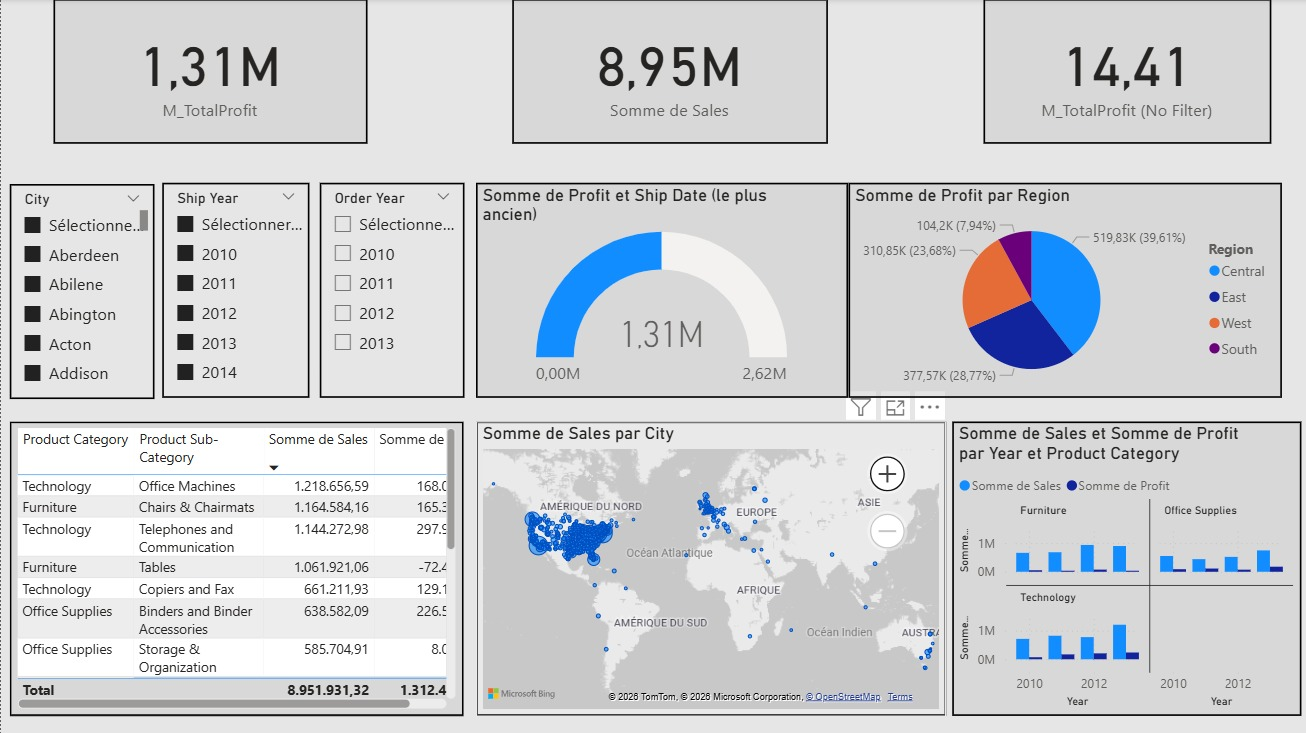

Layout of this report page (visuals, bound fields, positions):
{"tool":"powerbi","page":{"name":"Page 1","canvas":[1280,720],"ordinal":0},"visuals":[{"type":"card","fields":{"Values":["Sum(Orders.Sales)"]},"box":[500,0,308.6,141.4],"z":0},{"type":"slicer","fields":{"Values":["Orders.Order Date.Variation.Date Hierarchy.Year"]},"box":[311.4,180,141.4,210],"z":1000},{"type":"slicer","fields":{"Values":["Orders.Ship Date.Variation.Date Hierarchy.Year"]},"box":[157.1,180,144.3,210],"z":2000},{"type":"slicer","fields":{"Values":["Orders.City"]},"box":[8.6,181.4,141.4,210],"z":3000},{"type":"map","fields":{"Size":["Sum(Orders.Sales)"],"Category":["Orders.City"]},"box":[464.5,413.6,459.7,287.9],"z":4000},{"type":"pieChart","fields":{"Y":["Sum(Orders.Profit)"],"Category":["Orders.Region"]},"box":[828.6,180,424.3,210],"z":5000},{"type":"clusteredColumnChart","fields":{"Y":["Sum(Orders.Sales)","Sum(Orders.Profit)"],"Category":["Orders.Order Date.Variation.Date Hierarchy.Year"],"Rows":["Orders.Product Category"]},"box":[930.5,413.6,342,287.9],"z":6000},{"type":"tableEx","fields":{"Values":["Orders.Product Category","Orders.Product Sub-Category","Sum(Orders.Sales)","Sum(Orders.Profit)"]},"box":[8,413.6,443.8,287.9],"z":7000},{"type":"card","fields":{"Values":["Orders.M_TotalProfit"]},"box":[51.4,0,307.1,141.4],"z":8000},{"type":"card","fields":{"Values":["Orders.M_TotalProfit (No Filter)"]},"box":[961.4,0,281.4,141.4],"z":9000},{"type":"gauge","fields":{"Y":["Sum(Orders.Profit)"]},"box":[464.3,180,364.3,210],"z":10000}]}

Visuals, with their boxes in screenshot pixels (x1, y1, x2, y2), scaled from the page's 1280x720 canvas onto the 1306x733 screenshot:
card - Sum(Orders.Sales): bbox(510, 0, 825, 144)
slicer - Orders.Order Date.Variation.Date Hierarchy.Year: bbox(318, 183, 462, 397)
slicer - Orders.Ship Date.Variation.Date Hierarchy.Year: bbox(160, 183, 308, 397)
slicer - Orders.City: bbox(9, 185, 153, 398)
map - Sum(Orders.Sales) x Orders.City: bbox(474, 421, 943, 714)
pieChart - Sum(Orders.Profit) x Orders.Region: bbox(845, 183, 1278, 397)
clusteredColumnChart - Sum(Orders.Sales) x Sum(Orders.Profit): bbox(949, 421, 1298, 714)
tableEx - Orders.Product Category x Orders.Product Sub-Category: bbox(8, 421, 461, 714)
card - Orders.M_TotalProfit: bbox(52, 0, 366, 144)
card - Orders.M_TotalProfit (No Filter): bbox(981, 0, 1268, 144)
gauge - Sum(Orders.Profit): bbox(474, 183, 845, 397)
